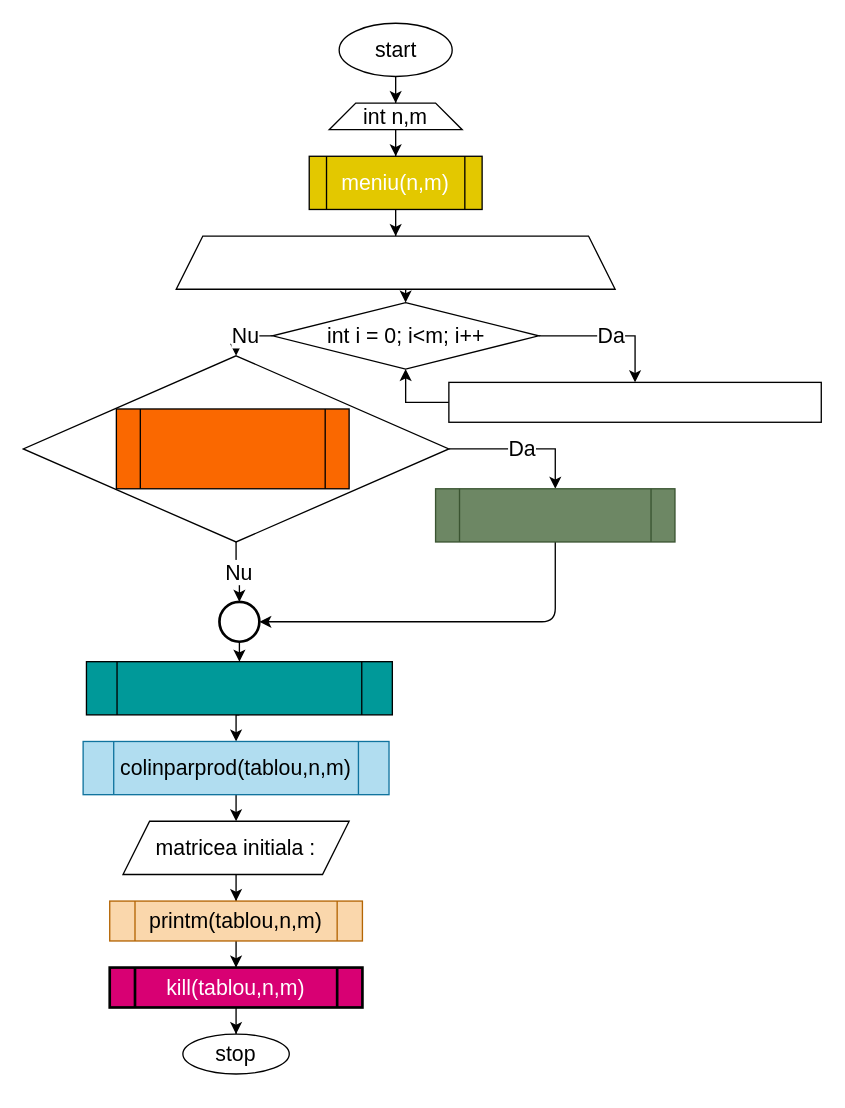
Some shapes in this 845 by 1108 pixel diagram are drawn without their labels. Here are the shapes that lost their labels. From the top down, the box of each, then its label:
(175, 235, 615, 289): int **tablou = (int**)malloc(n*sizeof(int*)
(448, 381, 821, 422): tablou[i] = (int*)malloc(m*sizeof(int)
(115, 408, 349, 489): randm(tablou,n,m)
(434, 487, 675, 542): scanm(tablou,n,m)
(85, 660, 392, 715): randparsum(tablou,n,m)
